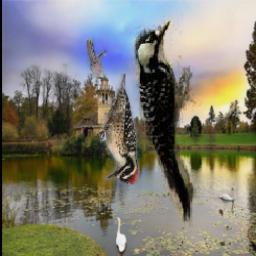Cuckoo: (86, 40, 106, 80)
Woodpecker: (126, 14, 205, 237), (98, 74, 139, 184)
